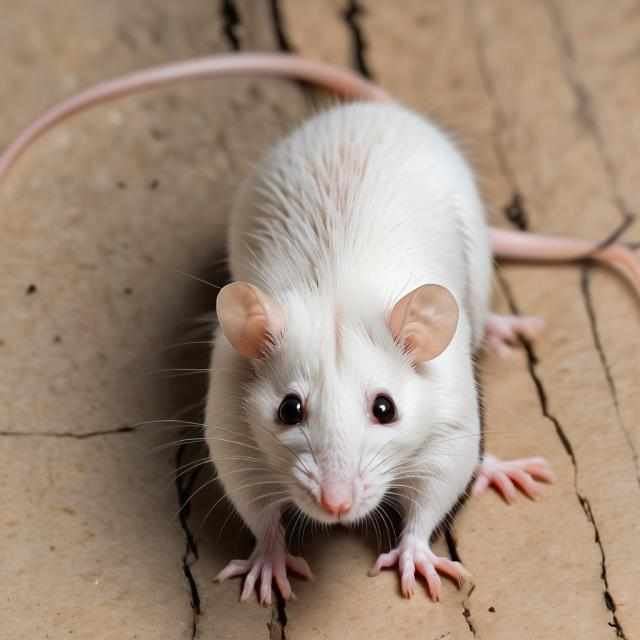rodents: (190, 94, 514, 571)
